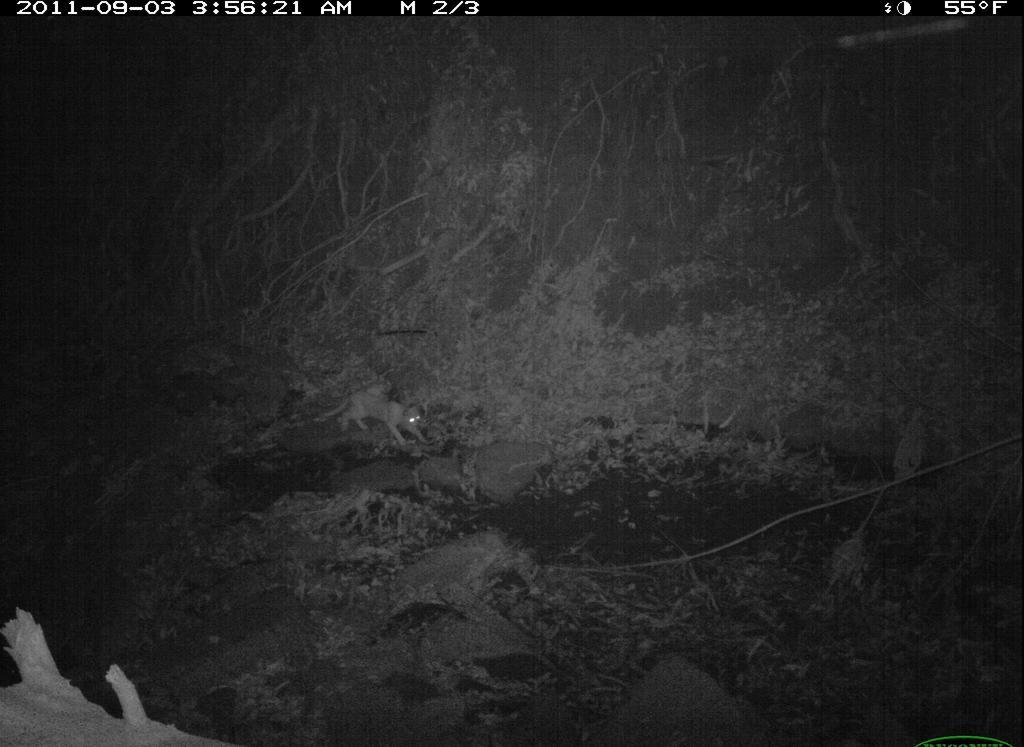cat: (300, 385, 437, 454)
